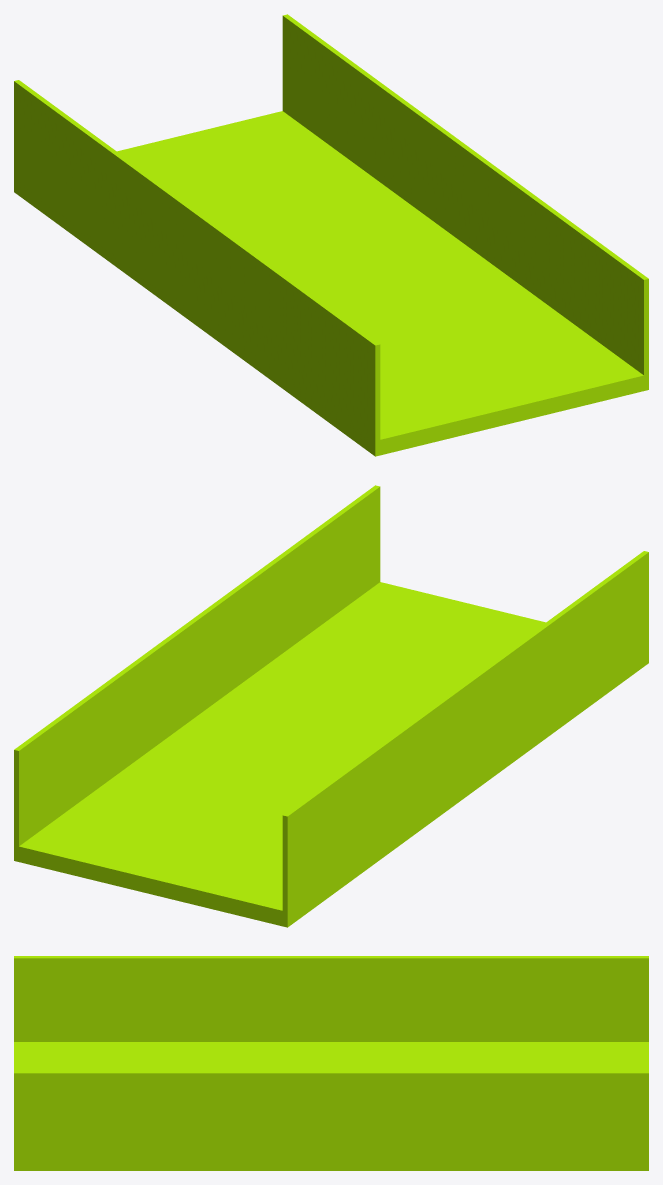
Rendered from climb-skin-8.glb.
3 views of the same model, one above another, from view 1: azimuth 30°, elevation 25°; view 2: azimuth 150°, elevation 25°; view 3: azimuth 270°, elevation 25° (orthographic). The views are drawn at different scales.
Visible parts, largest first — view 1: climb-skin-8; view 2: climb-skin-8; view 3: climb-skin-8.
Part boxes in pixels (box(x1,y1,x2,y2)): climb-skin-8: box(14, 14, 648, 456); climb-skin-8: box(14, 485, 648, 927); climb-skin-8: box(14, 956, 648, 1170).
Bounding box in the file's own units: 3.3 × 1.28 × 7.55.
1 material, 1 textured.
